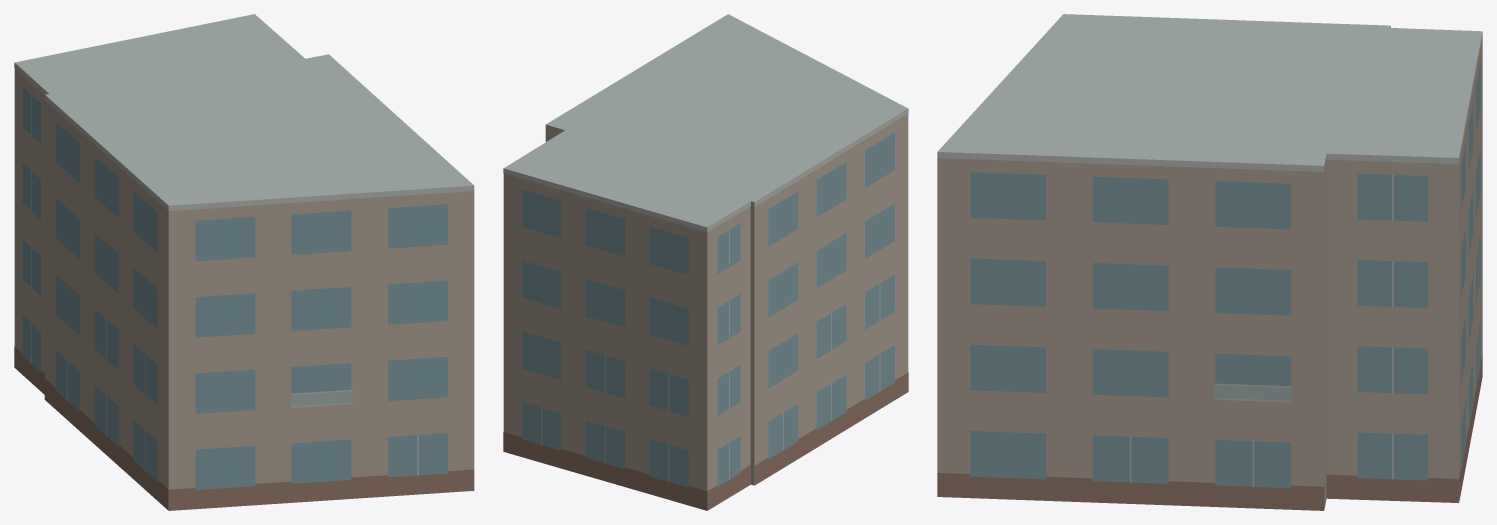
Rendered from survey-upis-32594626.glb.
The picture shows the model from 3 angles, left to right: view 1: azimuth 30°, elevation 25°; view 2: azimuth 150°, elevation 25°; view 3: azimuth 270°, elevation 25°; orthographic projection. The views are drawn at different scales.
Visible parts, largest first — view 1: survey-upis-32594626.tmp; view 2: survey-upis-32594626.tmp; view 3: survey-upis-32594626.tmp.
Boxes of the visible parts, left/top/right/bottom form: survey-upis-32594626.tmp: left=14, top=14, right=474, bottom=510; survey-upis-32594626.tmp: left=503, top=14, right=908, bottom=510; survey-upis-32594626.tmp: left=937, top=14, right=1482, bottom=510.
Size of the model in its own units: 13.04 by 13.8 by 19.78.
